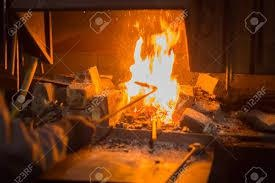fire: (120, 24, 183, 116)
